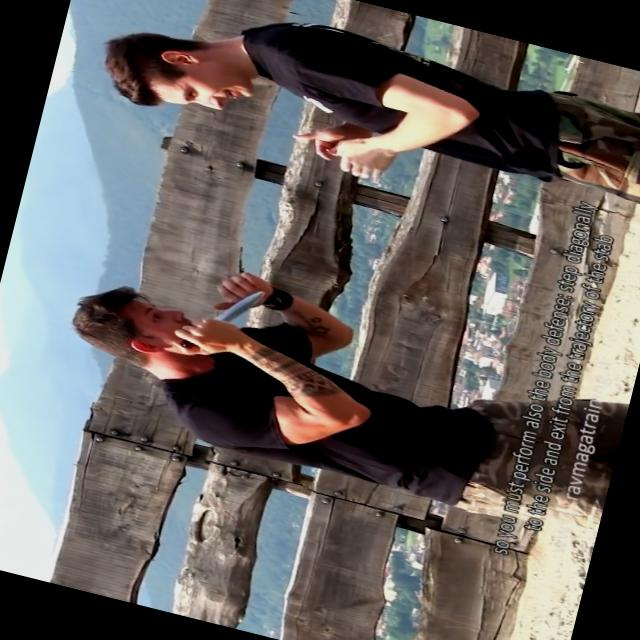knife: (164, 266, 270, 370)
